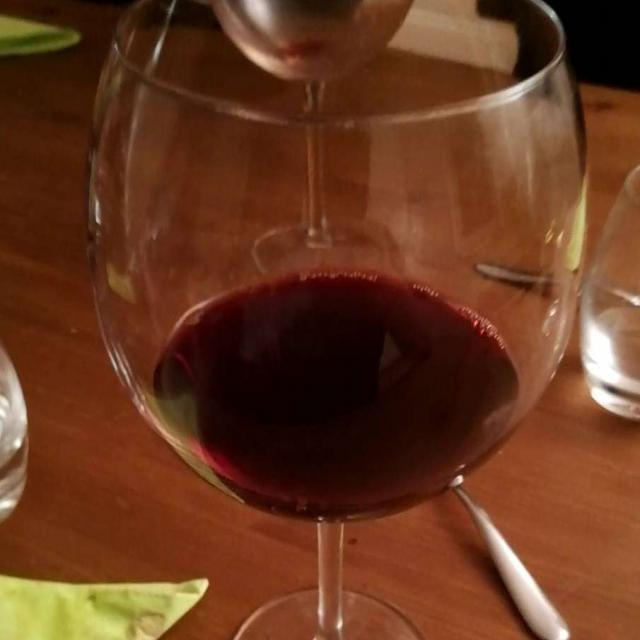wine: (173, 271, 516, 509)
